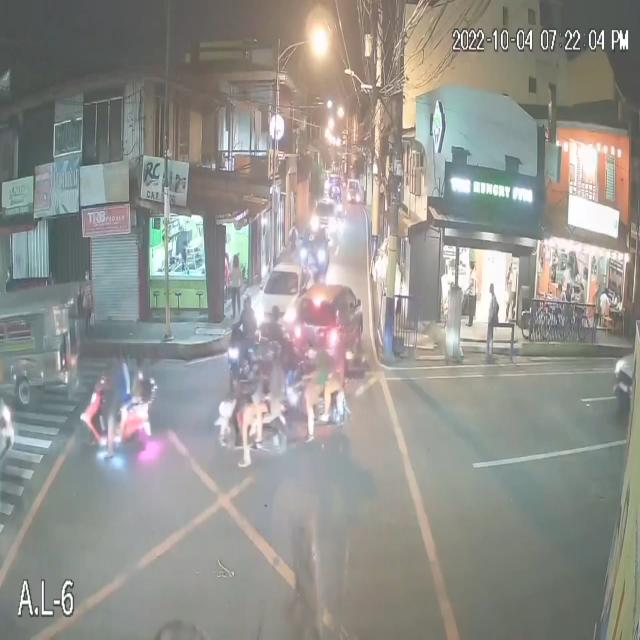Full-Faced: (264, 337, 281, 363), (241, 290, 253, 312)
